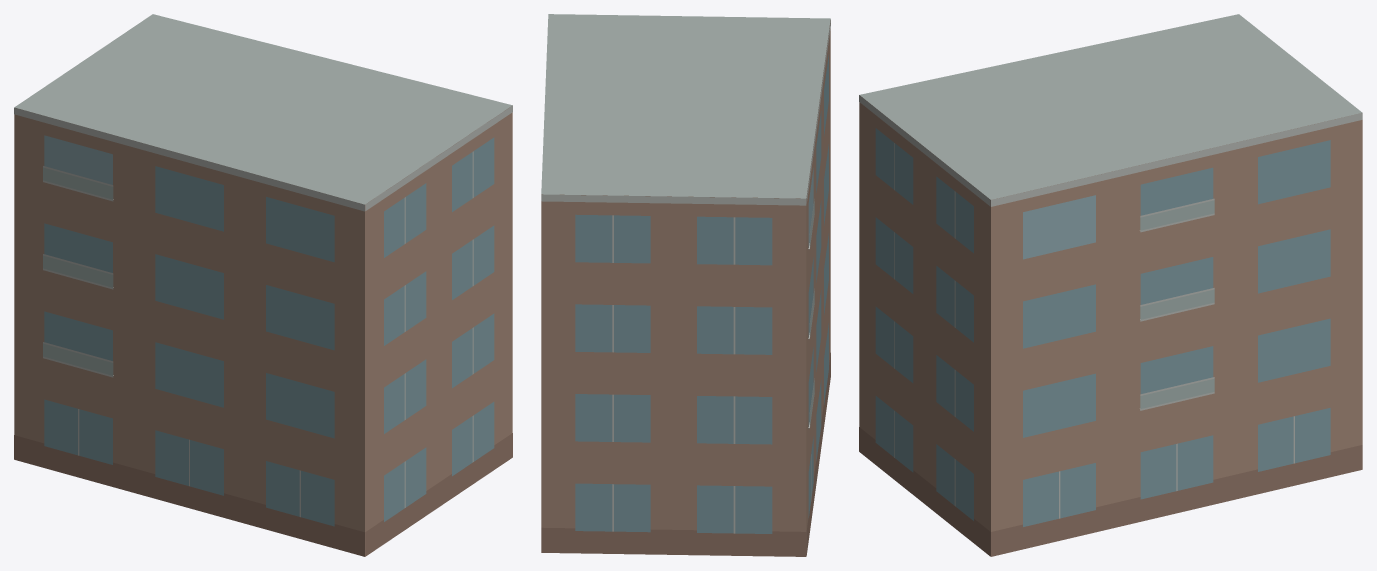
Rendered from survey-upis-32746793.glb.
The picture shows the model from 3 angles, left to right: view 1: azimuth 30°, elevation 25°; view 2: azimuth 150°, elevation 25°; view 3: azimuth 270°, elevation 25°; orthographic projection.
Visible parts, largest first — view 1: survey-upis-32746793.tmp; view 2: survey-upis-32746793.tmp; view 3: survey-upis-32746793.tmp.
Boxes of the visible parts, x1=… form: survey-upis-32746793.tmp: x1=14, y1=14, x2=512, y2=556; survey-upis-32746793.tmp: x1=541, y1=14, x2=830, y2=556; survey-upis-32746793.tmp: x1=859, y1=14, x2=1362, y2=556.
Size of the model in its own units: 13.87 by 12.4 by 15.86.
